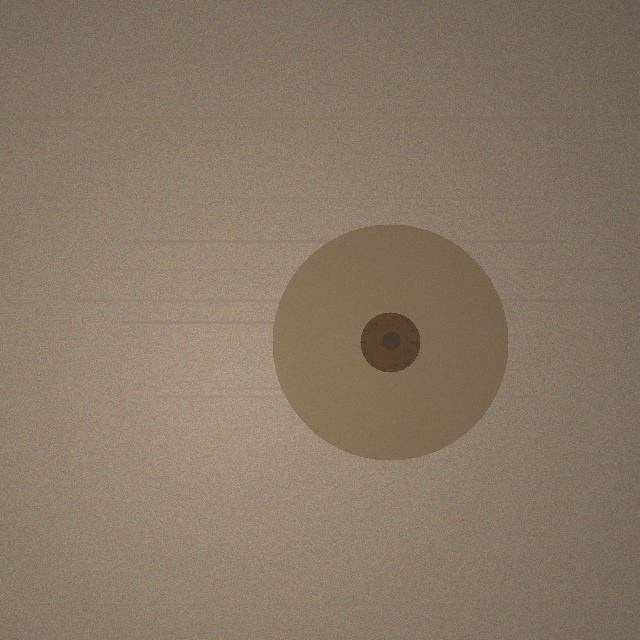cold_weld: (272, 224, 508, 460)
